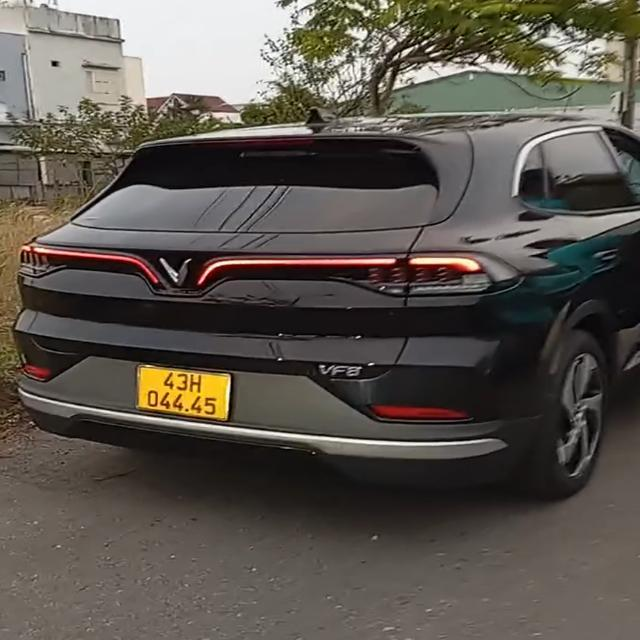car: (5, 106, 640, 493)
plate: (130, 361, 238, 425)
